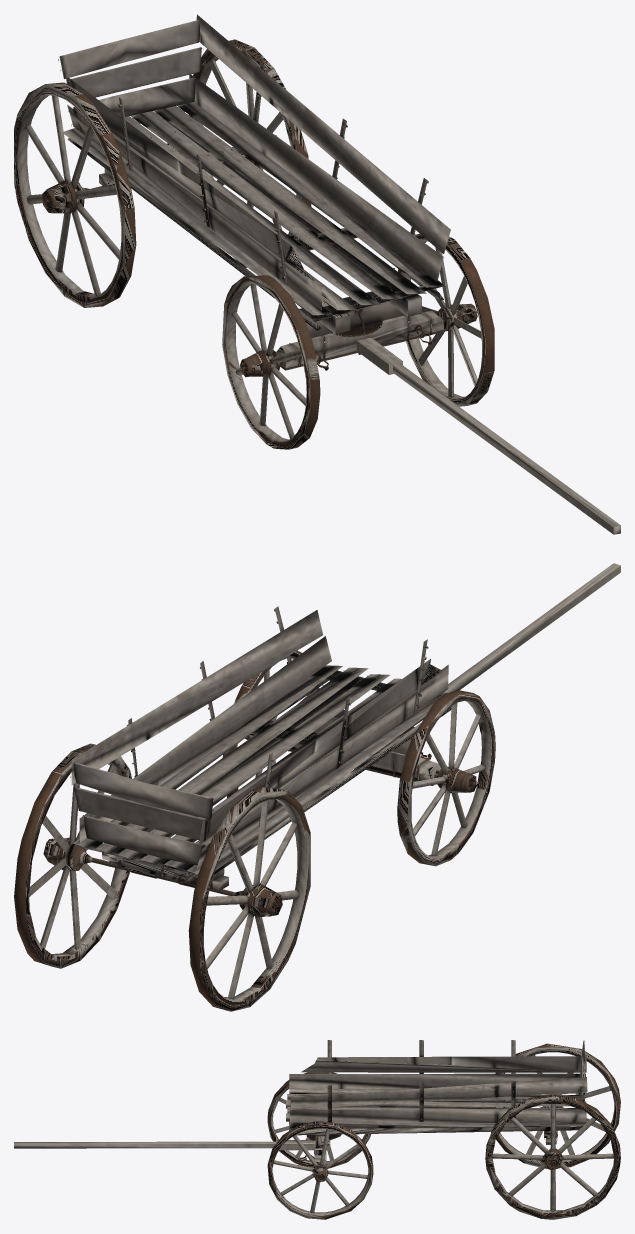
Rendered from farm-box-far.glb.
The picture shows the model from 3 angles, top to bottom: view 1: azimuth 30°, elevation 25°; view 2: azimuth 150°, elevation 25°; view 3: azimuth 270°, elevation 25°; orthographic projection. The views are drawn at different scales.
Parts seen in each view (by area): view 1: CartBody_CartBase_0, wheel_rr_CartDetails_0, wheel_fr_CartDetails_0, wheel_fl_CartDetails_0, single_reconstructed_pole, CartSteer_CartBase_0, wheel_rl_CartDetails_0, central_drawbar_bearing, CartBody_CartDetails_0, CartSteer_CartDetails_0; view 2: CartBody_CartBase_0, wheel_rr_CartDetails_0, wheel_rl_CartDetails_0, wheel_fr_CartDetails_0, single_reconstructed_pole, CartSteer_CartBase_0, CartBody_CartDetails_0, wheel_fl_CartDetails_0; view 3: CartBody_CartBase_0, wheel_rl_CartDetails_0, wheel_fl_CartDetails_0, wheel_rr_CartDetails_0, single_reconstructed_pole, wheel_fr_CartDetails_0, central_drawbar_bearing.
Part boxes in pixels (bbox=[...]): CartBody_CartBase_0: bbox=[59, 14, 450, 337]; wheel_rr_CartDetails_0: bbox=[14, 82, 136, 307]; wheel_fr_CartDetails_0: bbox=[222, 275, 320, 449]; wheel_fl_CartDetails_0: bbox=[398, 233, 494, 406]; single_reconstructed_pole: bbox=[393, 363, 620, 534]; CartSteer_CartBase_0: bbox=[276, 311, 443, 368]; wheel_rl_CartDetails_0: bbox=[188, 39, 311, 238]; central_drawbar_bearing: bbox=[357, 337, 402, 374]; CartBody_CartDetails_0: bbox=[58, 49, 428, 336]; CartSteer_CartDetails_0: bbox=[280, 312, 443, 370]; CartBody_CartBase_0: bbox=[71, 606, 451, 890]; wheel_rr_CartDetails_0: bbox=[188, 786, 310, 1011]; wheel_rl_CartDetails_0: bbox=[14, 743, 131, 968]; wheel_fr_CartDetails_0: bbox=[397, 690, 495, 866]; single_reconstructed_pole: bbox=[443, 563, 620, 692]; CartSteer_CartBase_0: bbox=[290, 744, 440, 780]; CartBody_CartDetails_0: bbox=[68, 609, 428, 895]; wheel_fl_CartDetails_0: bbox=[222, 650, 319, 797]; CartBody_CartBase_0: bbox=[286, 1040, 587, 1148]; wheel_rl_CartDetails_0: bbox=[485, 1094, 620, 1219]; wheel_fl_CartDetails_0: bbox=[267, 1121, 373, 1219]; wheel_rr_CartDetails_0: bbox=[491, 1043, 620, 1168]; single_reconstructed_pole: bbox=[14, 1141, 275, 1148]; wheel_fr_CartDetails_0: bbox=[267, 1072, 371, 1168]; central_drawbar_bearing: bbox=[276, 1140, 330, 1150].
Bounding box in the file's own units: 1.6 × 1.5 × 6.13.
2 materials, 2 textured.
